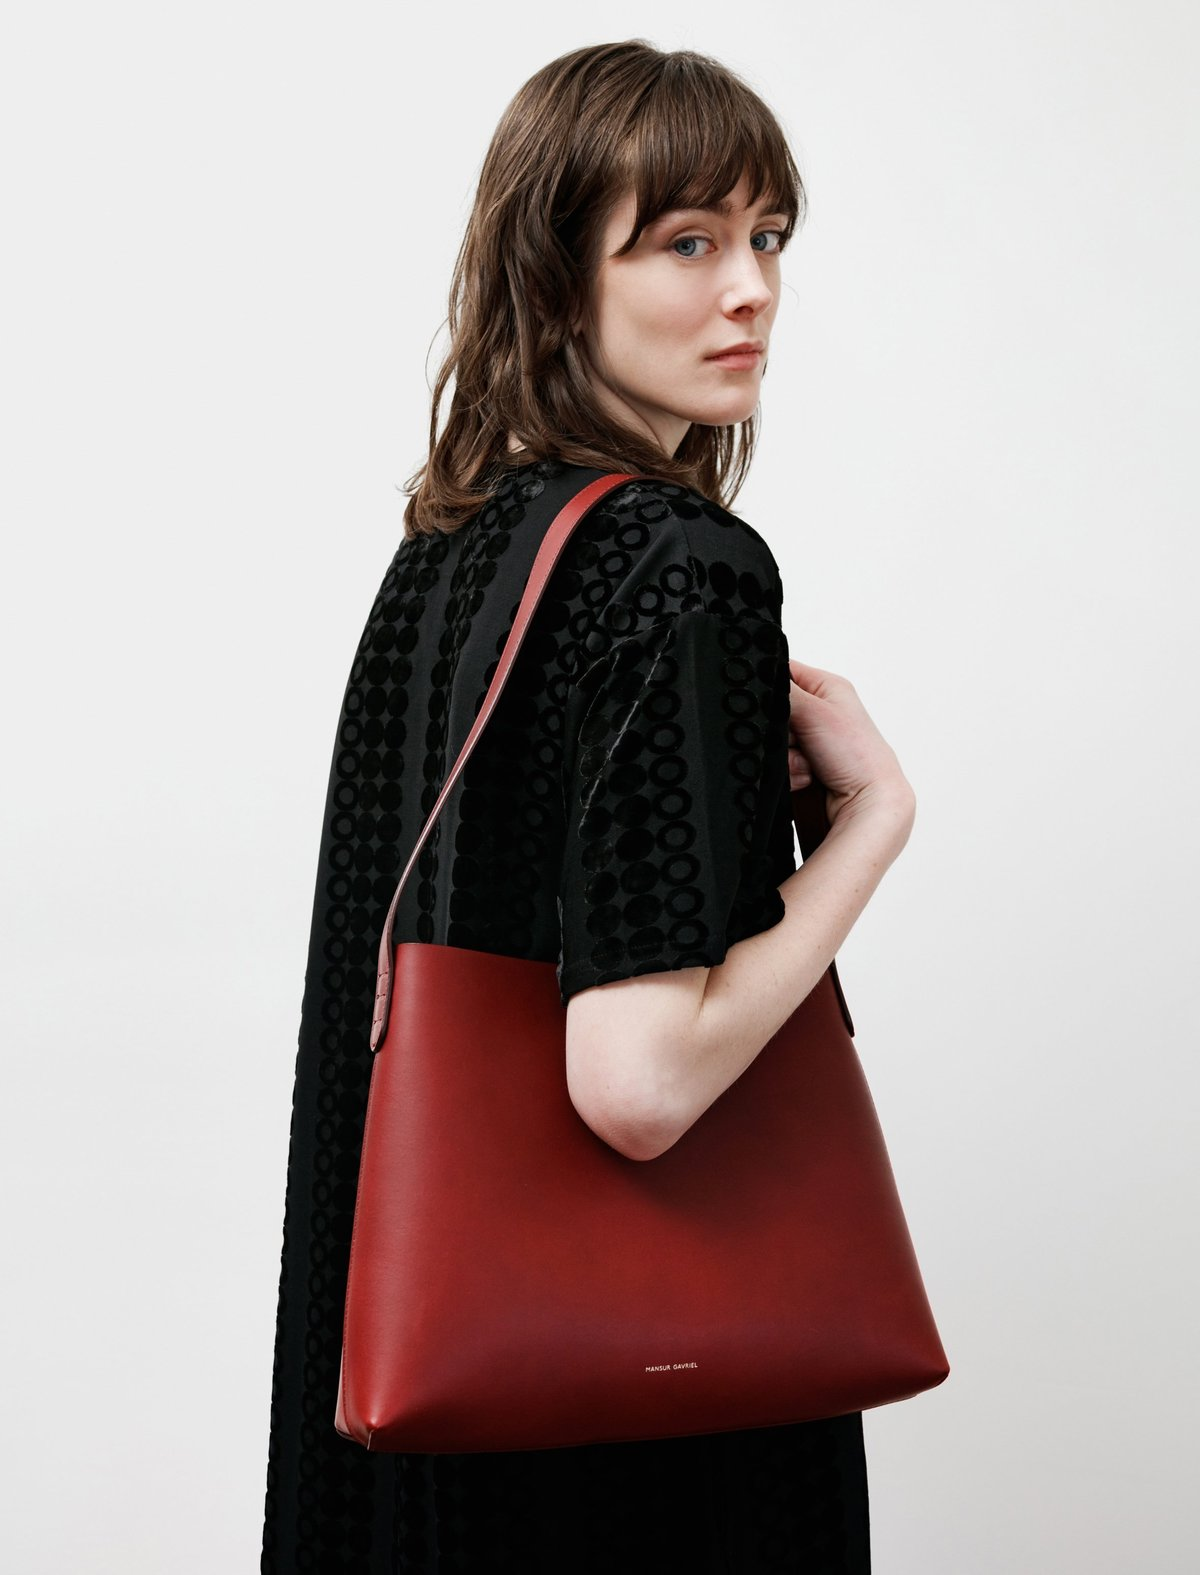shoulder bag: (74, 462, 1084, 1473)
